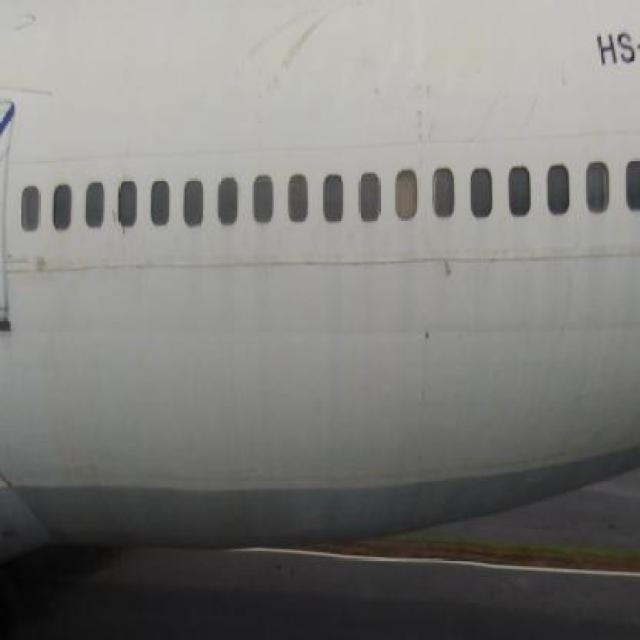Scartch: (366, 34, 452, 158), (244, 0, 344, 101), (0, 73, 112, 118), (420, 248, 478, 295), (6, 249, 76, 287), (7, 0, 47, 35)
